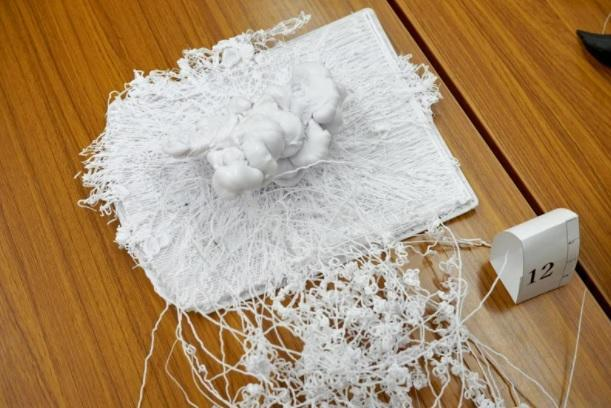Spaghetti: (77, 71, 479, 303), (157, 306, 547, 403)
Stringing or Oozing: (157, 125, 341, 193), (178, 40, 395, 68)
